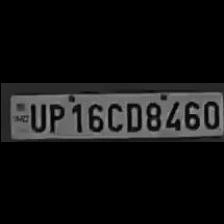0: (200, 96, 220, 128)
1: (65, 98, 83, 132)
4: (162, 96, 180, 130)
6: (84, 99, 104, 131), (180, 97, 198, 129)
8: (143, 97, 161, 130)
C: (104, 99, 122, 131)
D: (122, 99, 140, 131)
P: (44, 98, 64, 132)
U: (26, 99, 44, 130)
